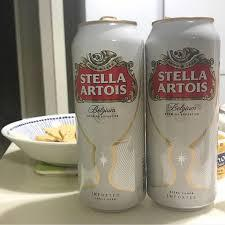beer: (71, 17, 221, 213)
